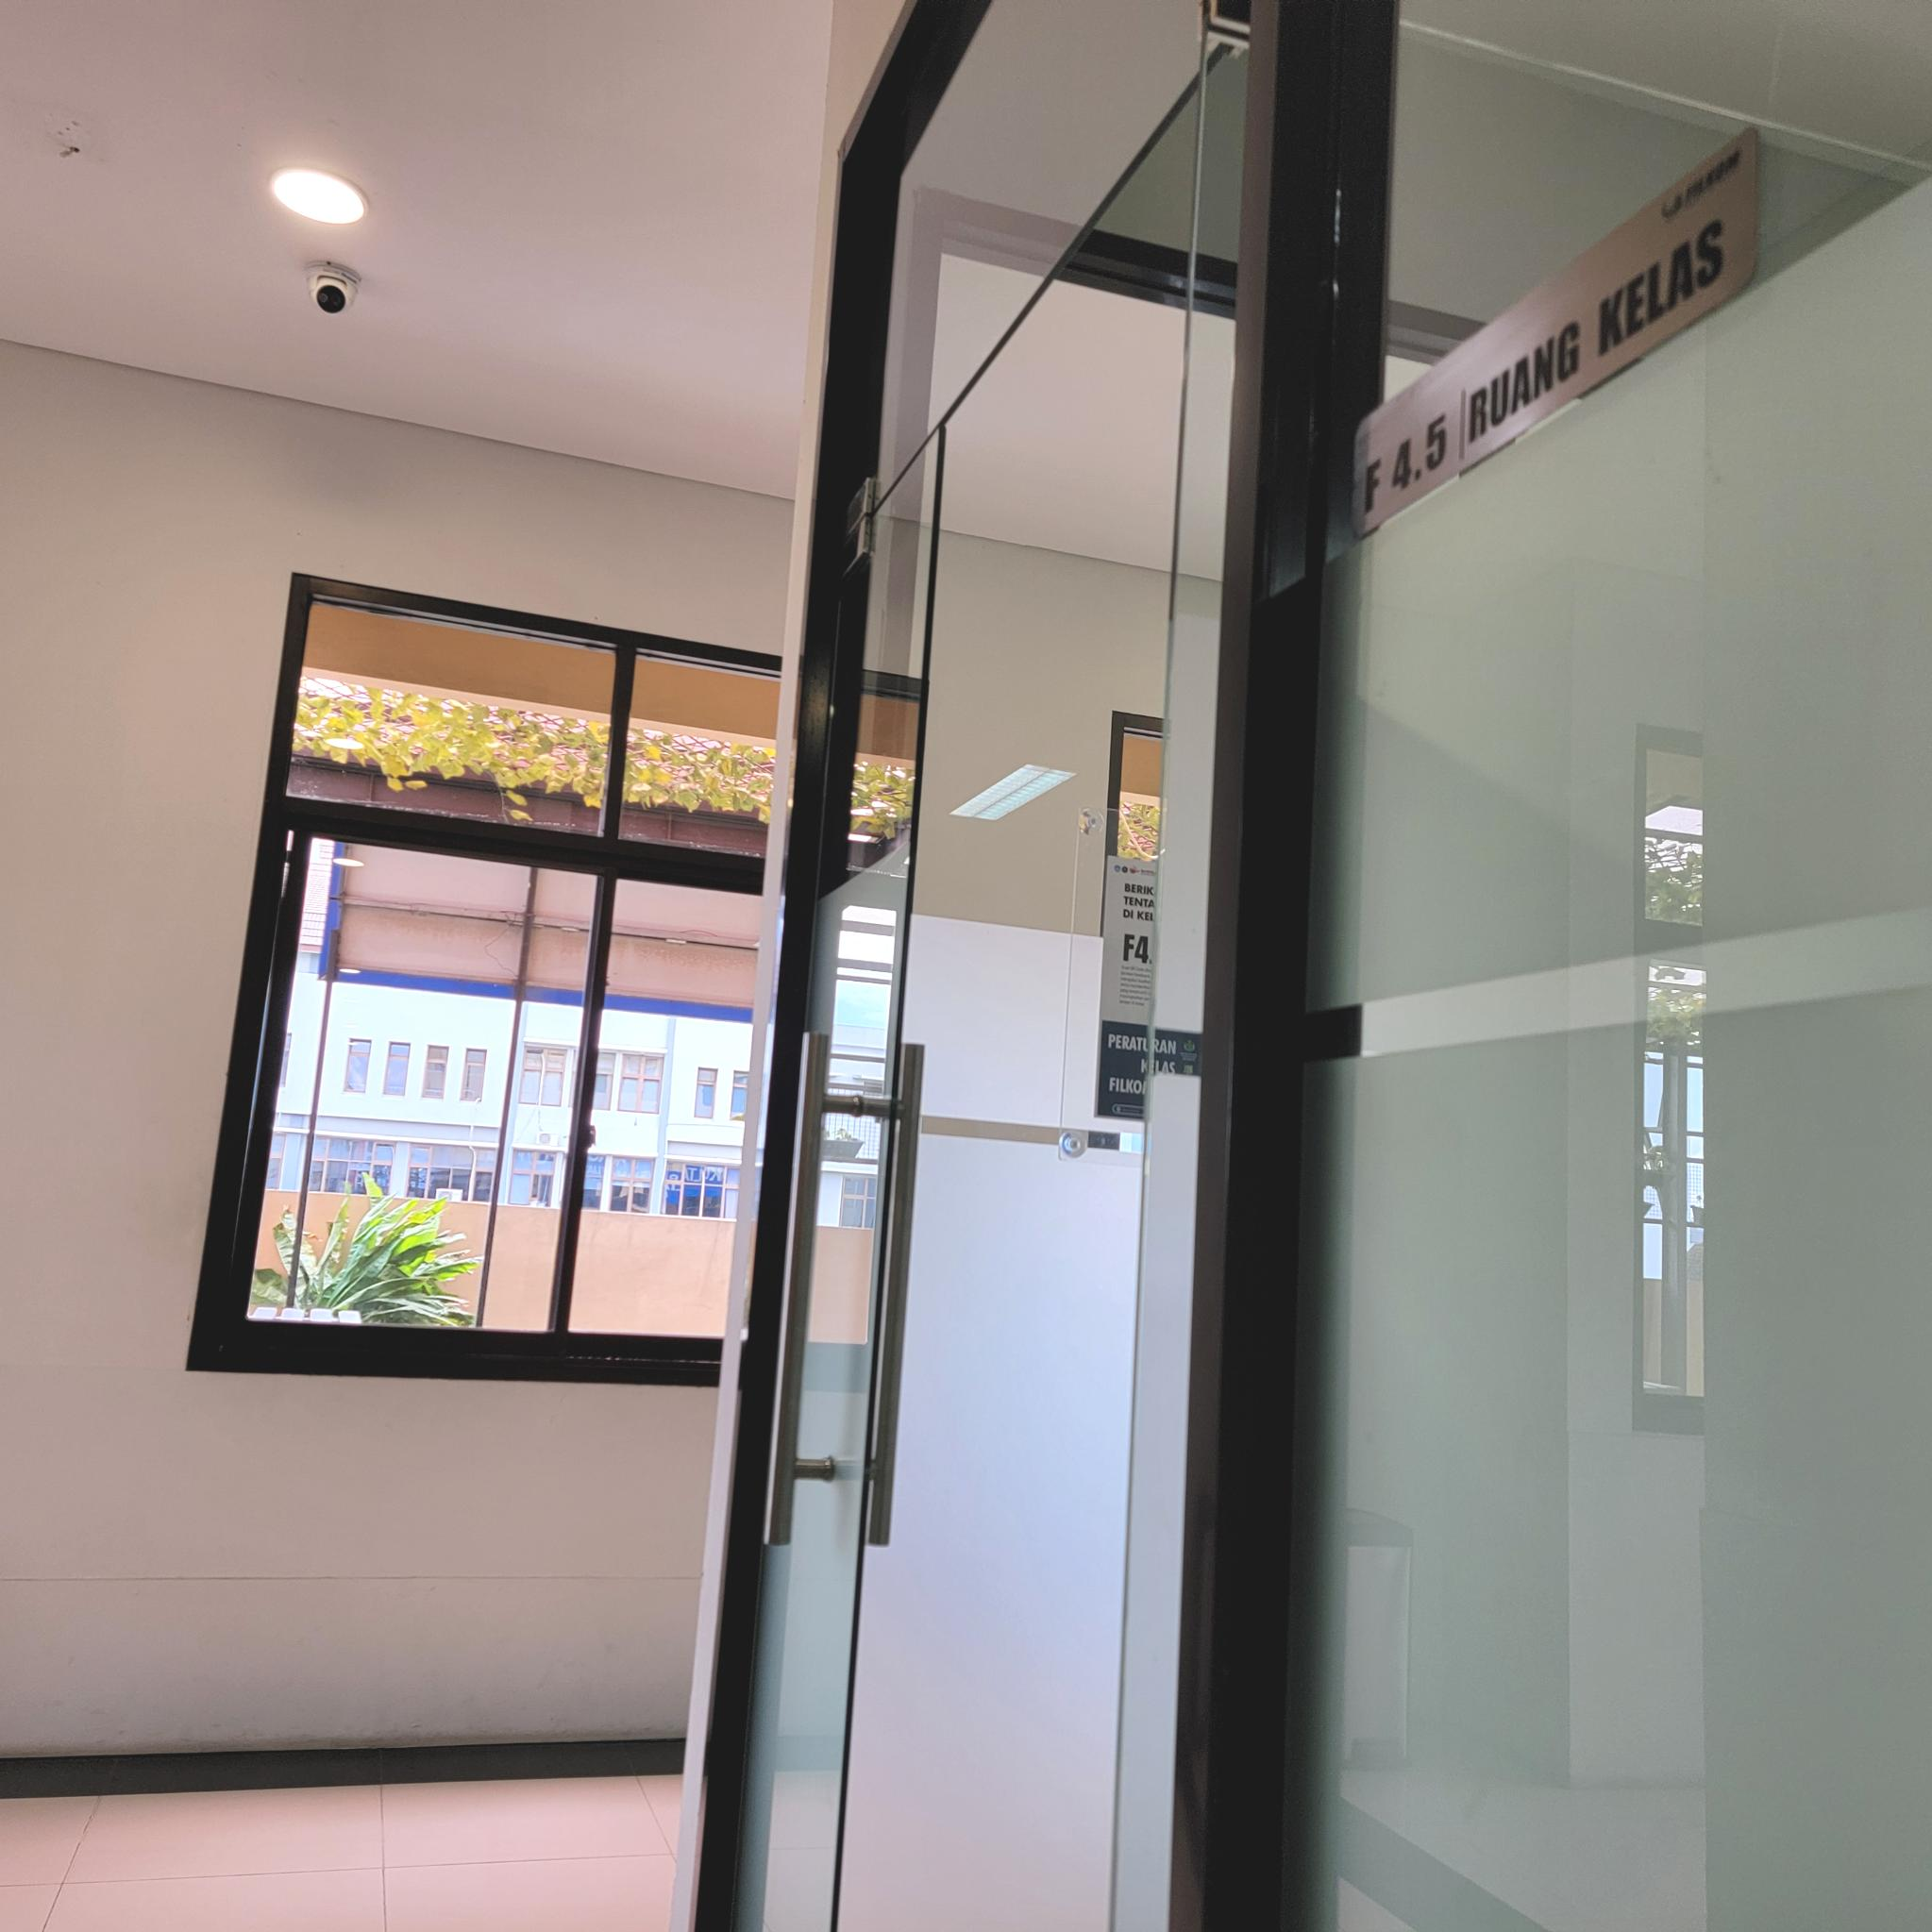plate: (1352, 127, 1762, 545)
